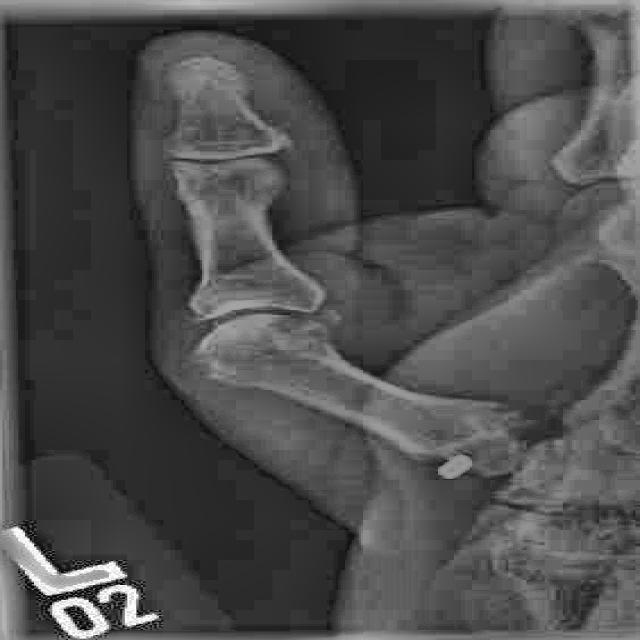fingers positive: (394, 373, 568, 492)
